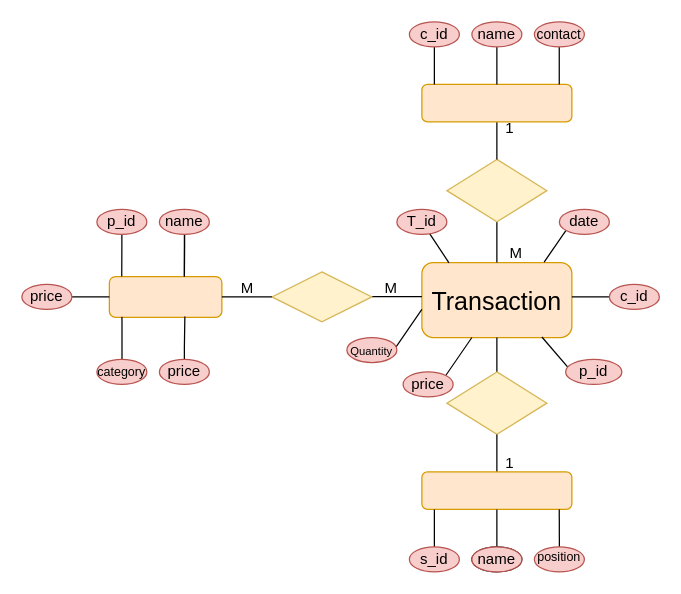
The diagram is 681 pixels wide and 594 high, and some of its shapes have lost their labels. Here are the shapes that lost their labels. From the top down, the box of each, then its label:
(421, 83, 572, 122): Customer
(446, 158, 547, 222): have
(108, 275, 222, 317): Product
(271, 271, 372, 322): include
(446, 371, 547, 434): Processes
(421, 471, 572, 509): Staff
